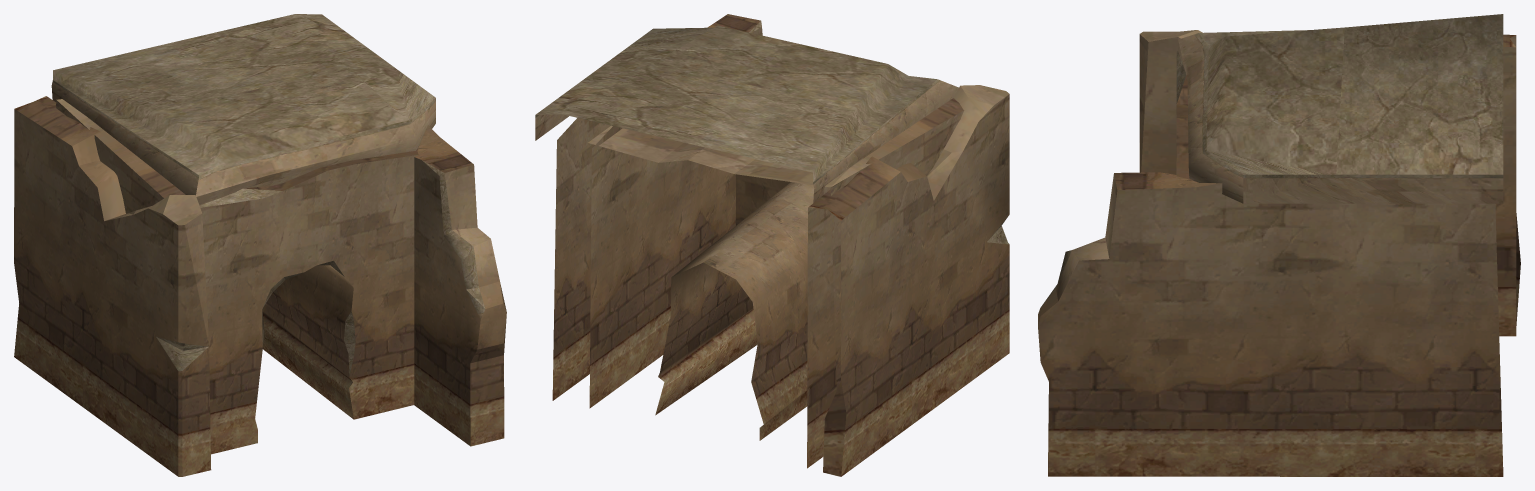
Rendered from environment_Building_shamofeiqijianzhu_01_c.FBX.
3 renders of one model, left to right at view 1: azimuth 30°, elevation 25°; view 2: azimuth 150°, elevation 25°; view 3: azimuth 270°, elevation 25°, orthographic. The views are drawn at different scales.
Parts seen in each view (by area): view 1: environment_Building_shamofeiqijianzhu_01_c; view 2: environment_Building_shamofeiqijianzhu_01_c; view 3: environment_Building_shamofeiqijianzhu_01_c.
Part boxes in pixels (left/top/right/bottom): environment_Building_shamofeiqijianzhu_01_c: left=14, top=14, right=506, bottom=476; environment_Building_shamofeiqijianzhu_01_c: left=535, top=14, right=1009, bottom=476; environment_Building_shamofeiqijianzhu_01_c: left=1038, top=14, right=1520, bottom=476.
Bounding box in the file's own units: 371 × 337 × 450.
